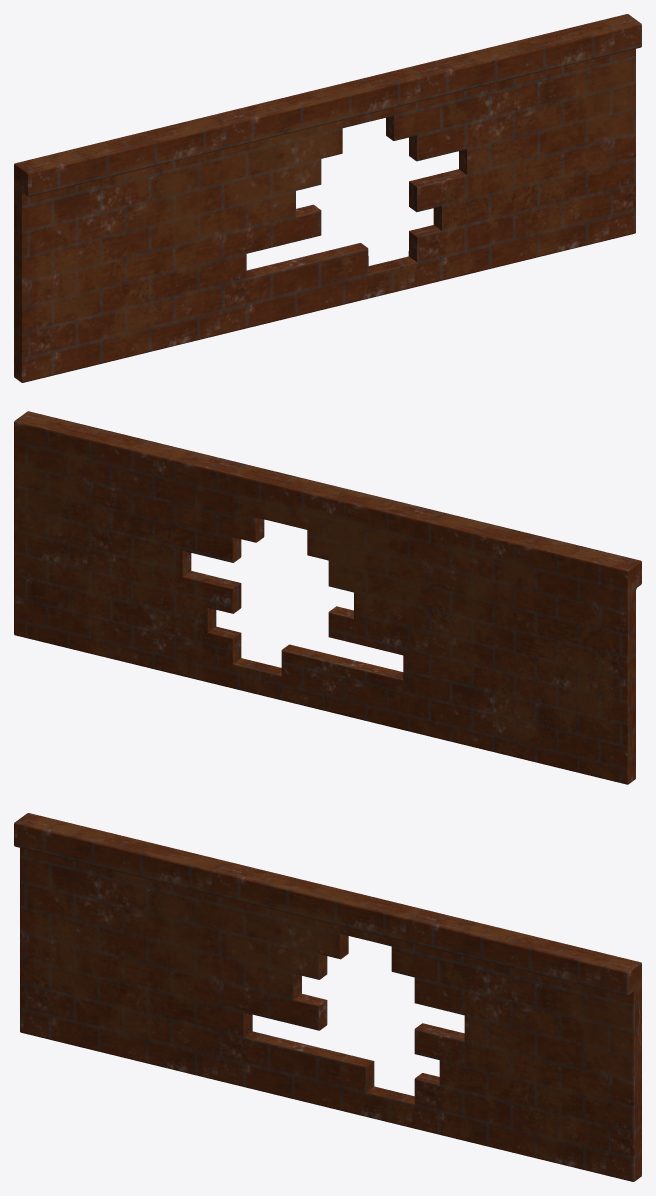
The model's file is Broken-wall_02.FBX.
3 renders of one model, top to bottom at view 1: azimuth 30°, elevation 25°; view 2: azimuth 150°, elevation 25°; view 3: azimuth 330°, elevation 25°, orthographic.
Visible parts, largest first — view 1: Brick_wall; view 2: Brick_wall; view 3: Brick_wall.
Boxes of the visible parts, bbox=[...] form: Brick_wall: bbox=[14, 14, 641, 382]; Brick_wall: bbox=[14, 411, 641, 784]; Brick_wall: bbox=[14, 813, 641, 1181].
Bounding box in the file's own units: 300 × 100 × 12.22.
